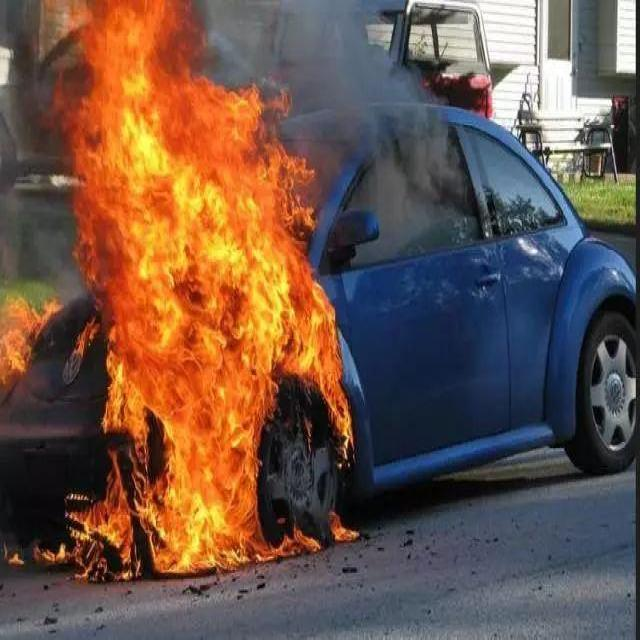Fire: (46, 0, 275, 575), (277, 150, 352, 440), (0, 293, 45, 391)
